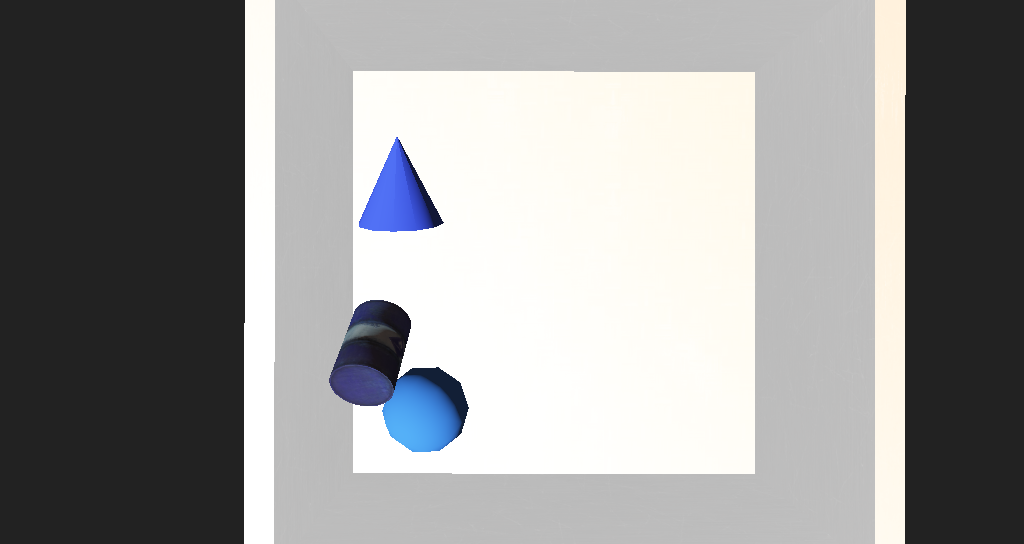cone: (340, 282, 401, 339)
cylinder: (354, 188, 428, 251)
sphere: (381, 315, 441, 363)
